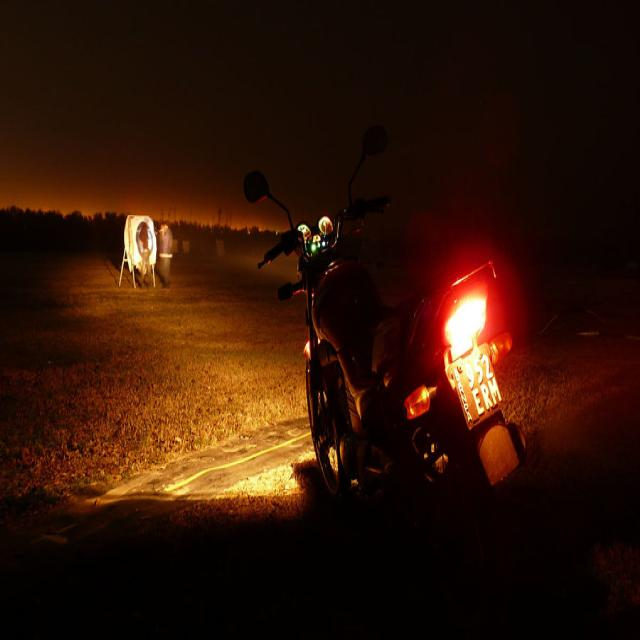Motorbike: (228, 131, 549, 536)
